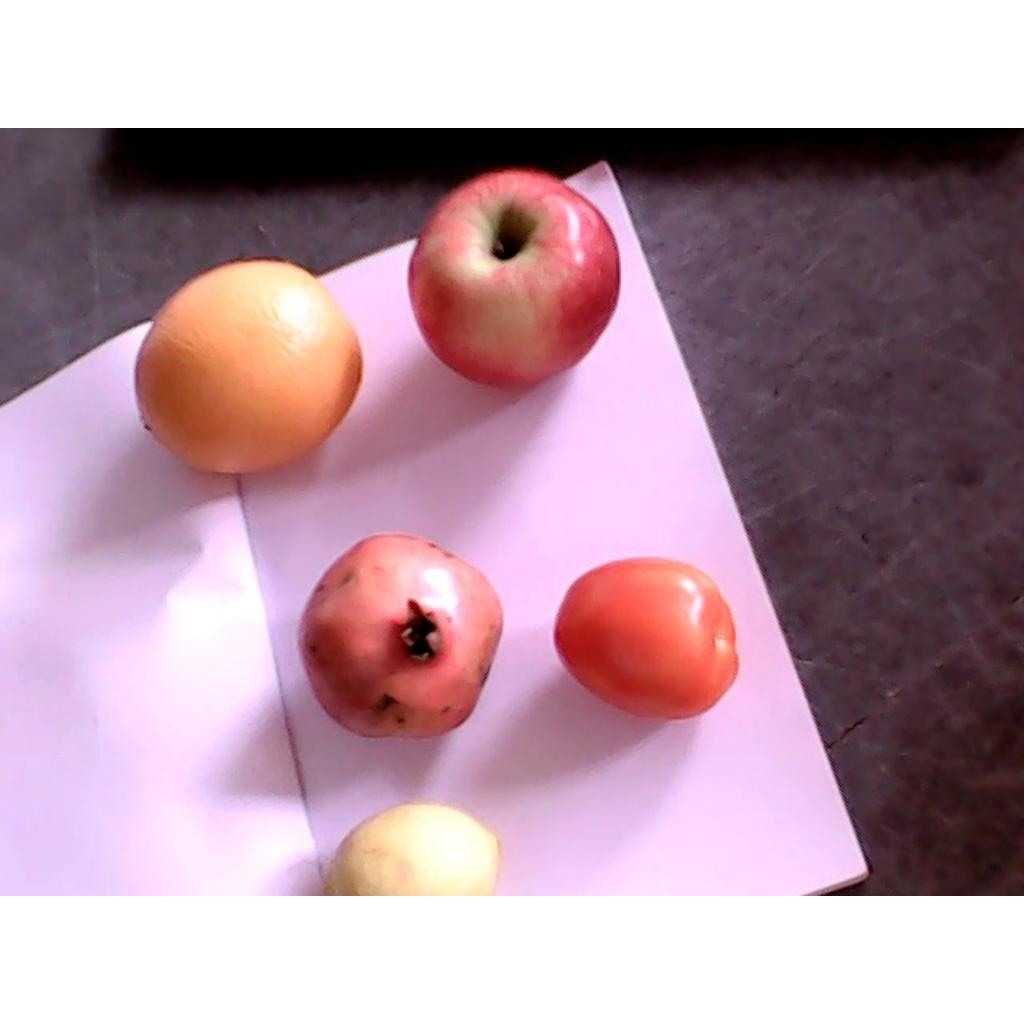apple: (409, 171, 621, 388)
lemon: (320, 804, 500, 894)
orange: (135, 260, 363, 475)
pomegranate: (297, 534, 504, 736)
tomato: (554, 556, 739, 719)
